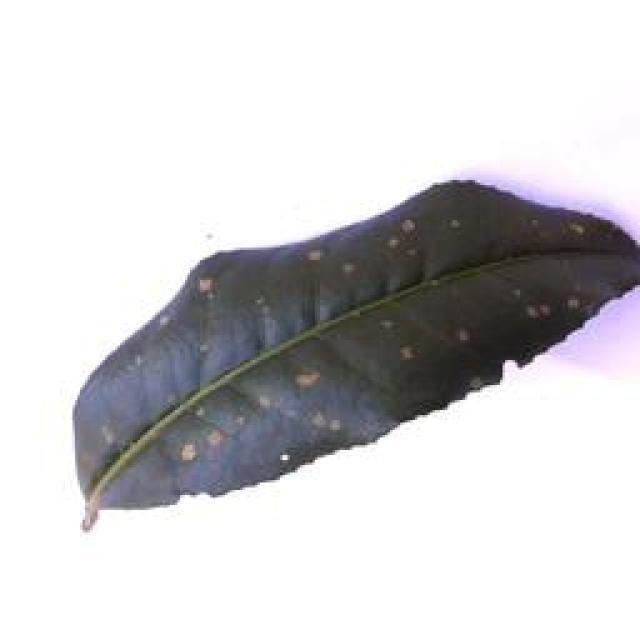Algal Leaf Spot: (52, 155, 640, 527)
